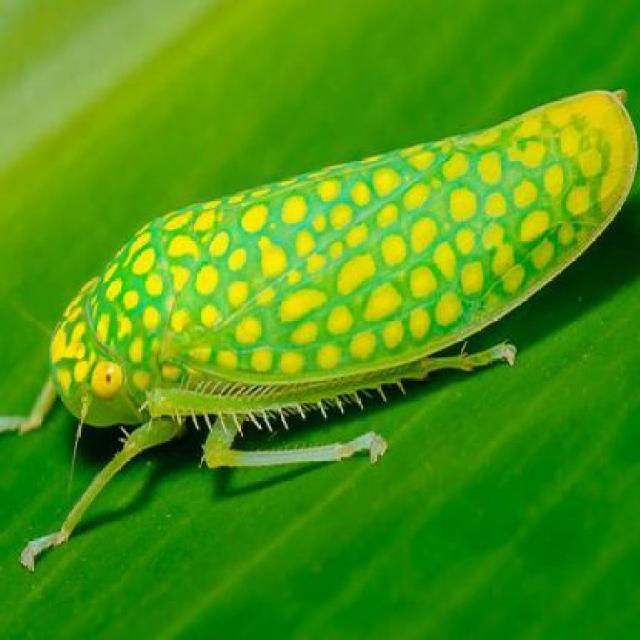green-leafhopper: (57, 99, 640, 472)
